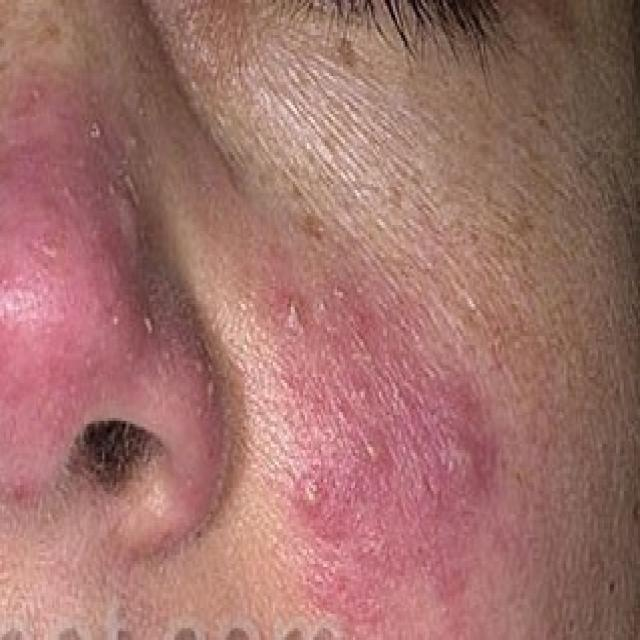Rosacea: (274, 314, 498, 612), (4, 133, 155, 475)
